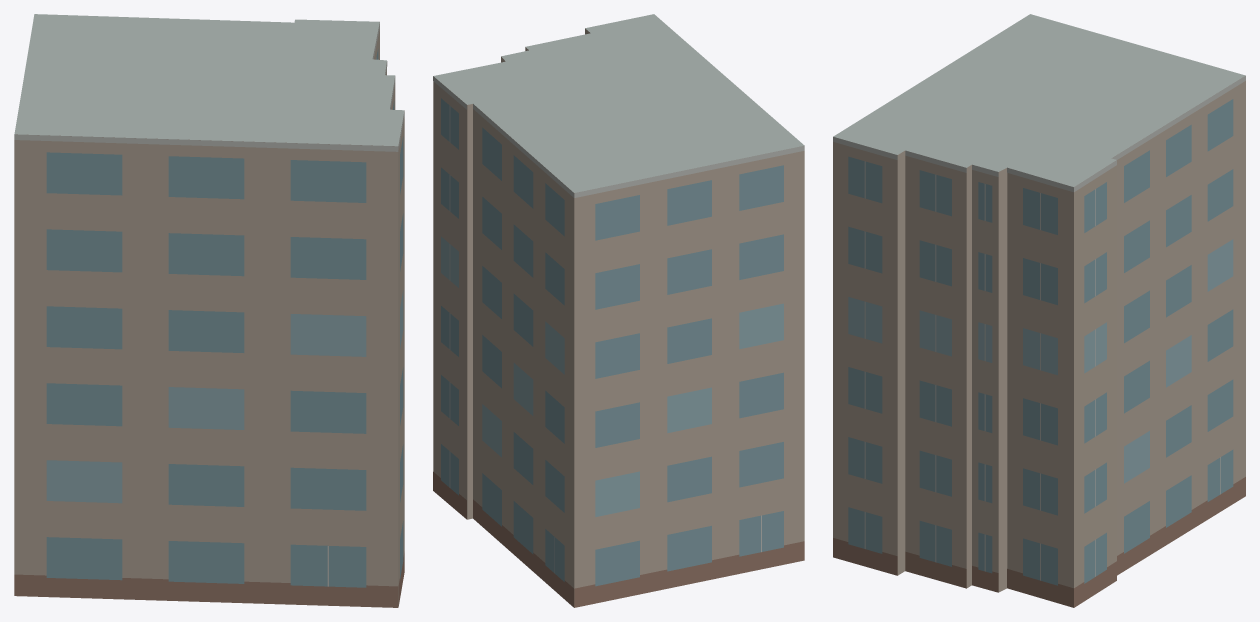
The model's file is survey-upis-32926815.glb.
3 views of the same model, side by side, from view 1: azimuth 30°, elevation 25°; view 2: azimuth 150°, elevation 25°; view 3: azimuth 270°, elevation 25° (orthographic). The views are drawn at different scales.
Visible parts, largest first — view 1: survey-upis-32926815.tmp; view 2: survey-upis-32926815.tmp; view 3: survey-upis-32926815.tmp.
Part boxes in pixels (bbox=[...]): survey-upis-32926815.tmp: bbox=[14, 14, 404, 607]; survey-upis-32926815.tmp: bbox=[433, 14, 804, 607]; survey-upis-32926815.tmp: bbox=[833, 14, 1245, 607].
Bounding box in the file's own units: 17.62 × 19.94 × 17.74.
